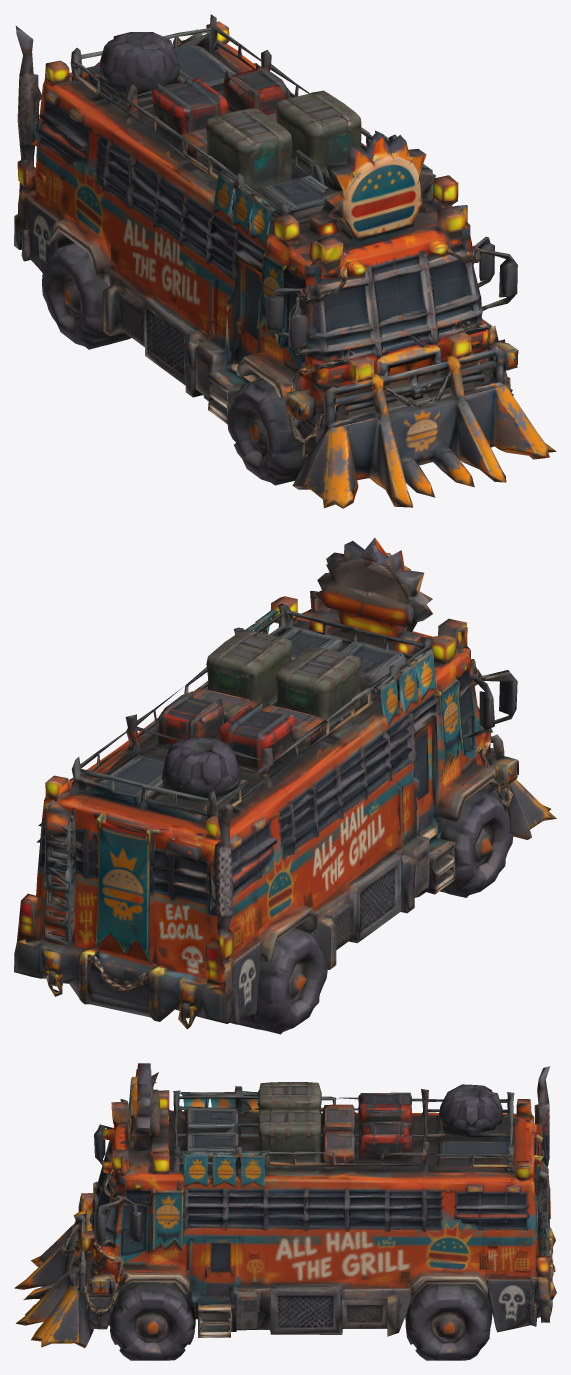
Rendered from armored_truck.glb.
3 views of the same model, one above another, from view 1: azimuth 30°, elevation 25°; view 2: azimuth 150°, elevation 25°; view 3: azimuth 270°, elevation 25° (orthographic). The views are drawn at different scales.
Parts seen in each view (by area): view 1: tripo_node_5dc04d32-c755-473f-8d0b-de1cd9bde12e; view 2: tripo_node_5dc04d32-c755-473f-8d0b-de1cd9bde12e; view 3: tripo_node_5dc04d32-c755-473f-8d0b-de1cd9bde12e.
Part boxes in pixels (x1,y1,x2,y2): tripo_node_5dc04d32-c755-473f-8d0b-de1cd9bde12e: (14, 14, 556, 508); tripo_node_5dc04d32-c755-473f-8d0b-de1cd9bde12e: (14, 538, 556, 1034); tripo_node_5dc04d32-c755-473f-8d0b-de1cd9bde12e: (14, 1063, 556, 1360).
Bounding box in the file's own units: 0.4049 × 0.504 × 0.9824.
1 material, 1 textured.
